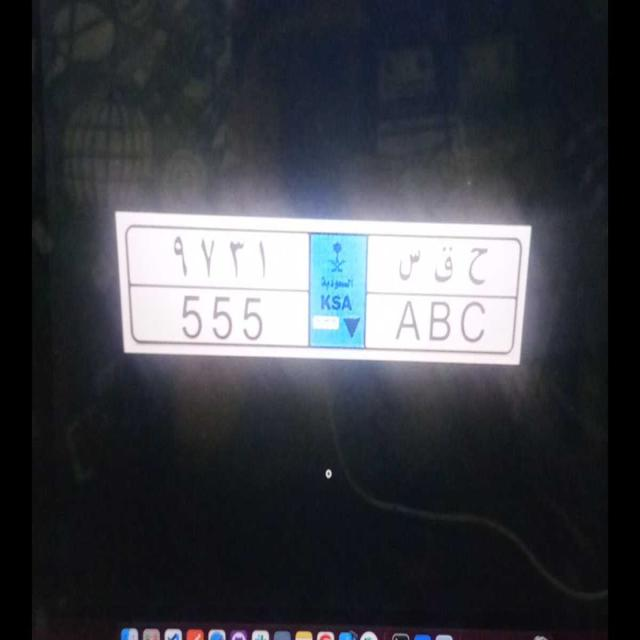license_plate: (133, 288, 507, 358)
